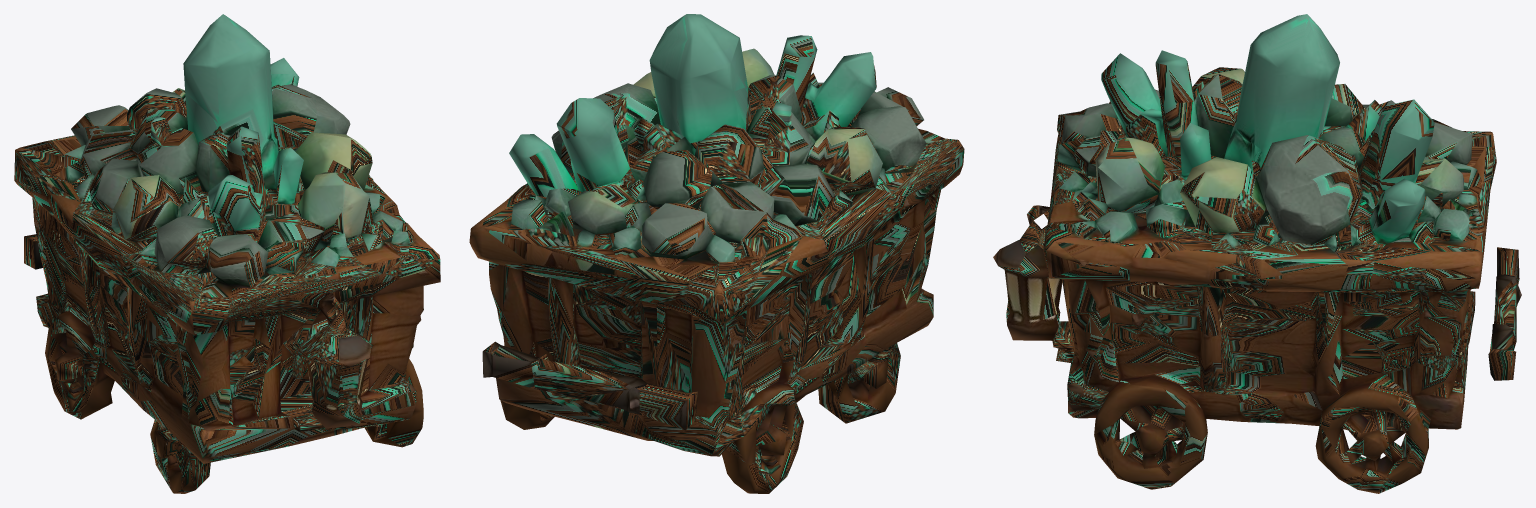
Rendered from emerald_minecart_01.glb.
3 renders of one model, left to right at view 1: azimuth 30°, elevation 25°; view 2: azimuth 150°, elevation 25°; view 3: azimuth 270°, elevation 25°, orthographic. The views are drawn at different scales.
Visible parts, largest first — view 1: tripo_node_a36ef394-81b0-4eed-98d2-fa5e4b05b095; view 2: tripo_node_a36ef394-81b0-4eed-98d2-fa5e4b05b095; view 3: tripo_node_a36ef394-81b0-4eed-98d2-fa5e4b05b095.
Part boxes in pixels (x1,y1,x2,y2): tripo_node_a36ef394-81b0-4eed-98d2-fa5e4b05b095: (14, 14, 440, 493); tripo_node_a36ef394-81b0-4eed-98d2-fa5e4b05b095: (469, 14, 964, 493); tripo_node_a36ef394-81b0-4eed-98d2-fa5e4b05b095: (993, 14, 1521, 493).
Size of the model in its own units: 0.6451 by 0.8723 by 0.9829.
Materials: 1 (1 with a texture image).
